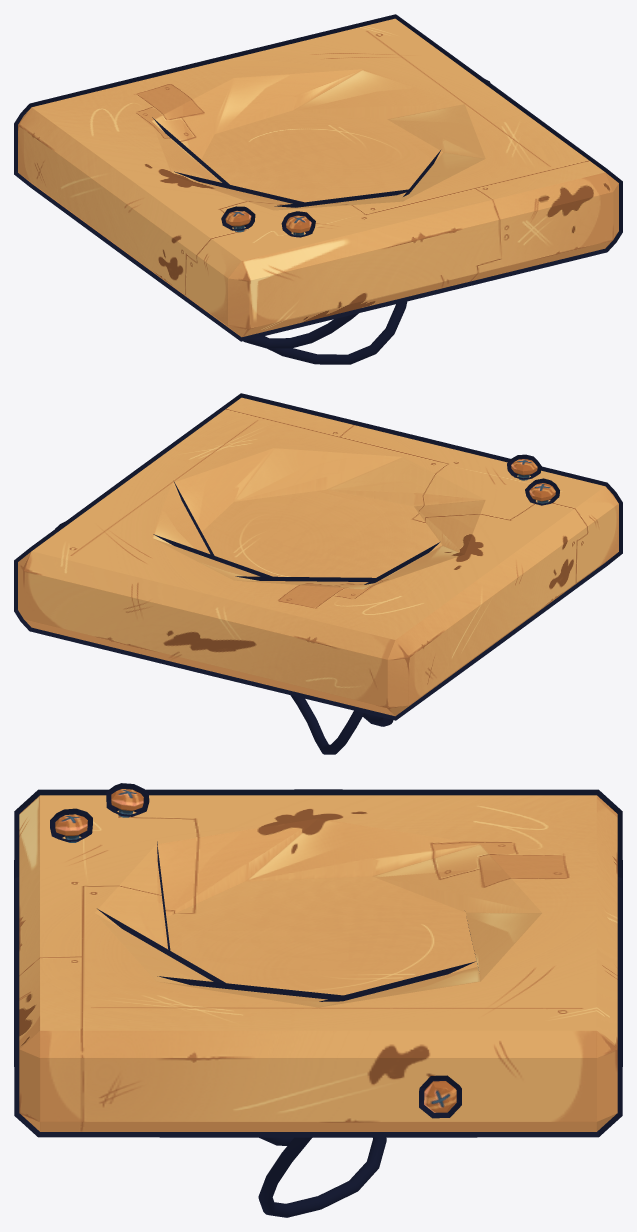
File: grinder_platform.glb
3 renders of one model, top to bottom at view 1: azimuth 30°, elevation 25°; view 2: azimuth 150°, elevation 25°; view 3: azimuth 270°, elevation 25°, orthographic. The views are drawn at different scales.
Parts seen in each view (by area): view 1: plateforme, plateforme border, fils, vis plateforme meule, vis plateforme meule border; view 2: plateforme, plateforme border, fils, vis plateforme meule, vis plateforme meule border; view 3: plateforme, plateforme border, fils, vis plateforme meule, vis plateforme meule border.
Boxes of the visible parts, x1,y1,x2,y2 form: plateforme: (18,18,618,337); plateforme border: (14,14,622,341); fils: (243,301,407,364); vis plateforme meule: (225,210,311,237); vis plateforme meule border: (221,79,490,237); plateforme: (18,397,618,716); plateforme border: (14,393,622,720); fils: (290,695,393,754); vis plateforme meule: (511,459,555,503); vis plateforme meule border: (55,454,559,528); plateforme: (19,795,617,1131); plateforme border: (14,789,622,1137); fils: (258,1137,386,1217); vis plateforme meule: (55,789,456,1112); vis plateforme meule border: (50,783,461,1118).
Bounding box in the file's own units: 0.8148 × 0.4582 × 0.7782.
Materials: 3 (2 with a texture image).
